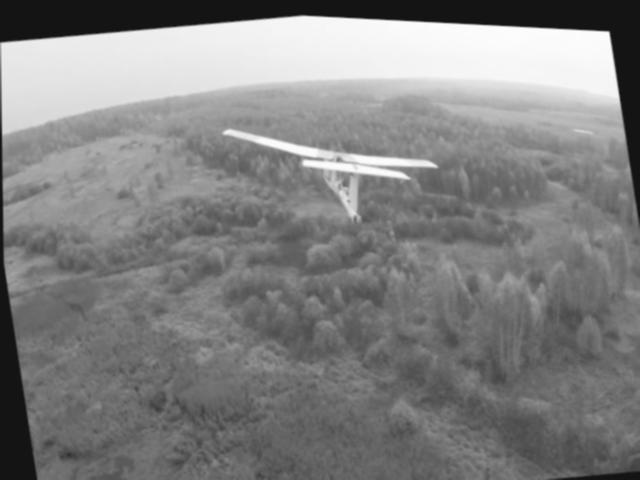hedef: (218, 93, 447, 246)
